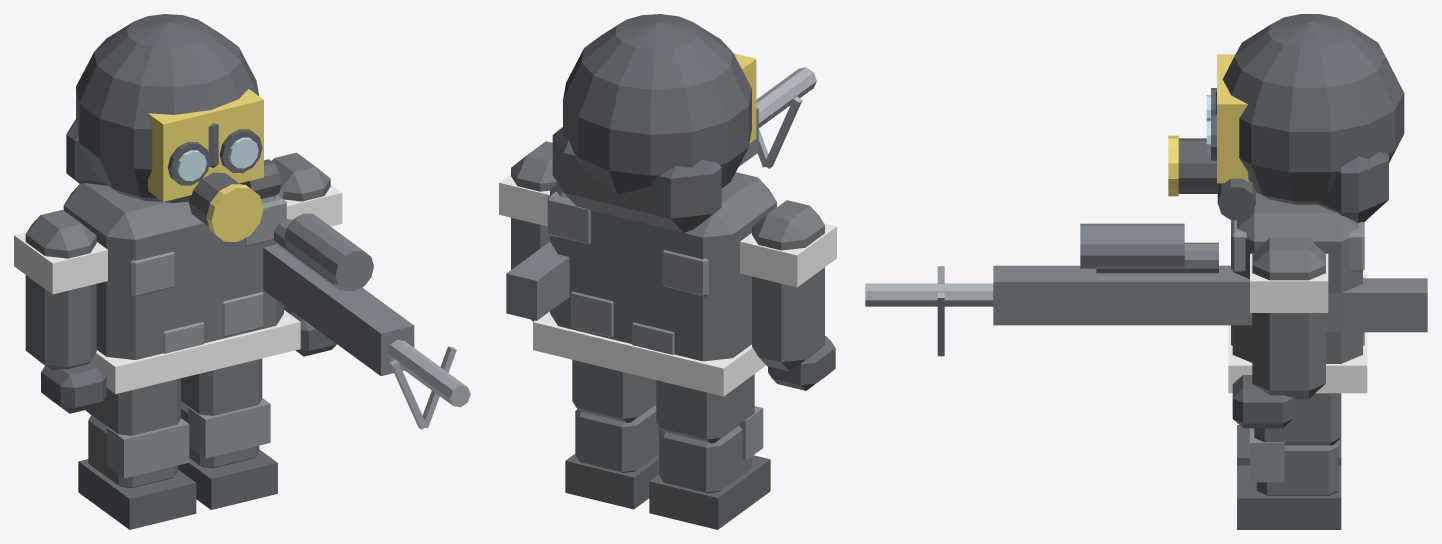
Rendered from hunter@toxico.glb.
3 views of the same model, side by side, from view 1: azimuth 30°, elevation 25°; view 2: azimuth 150°, elevation 25°; view 3: azimuth 270°, elevation 25° (orthographic). The views are drawn at different scales.
Visible parts, largest first — view 1: main, shinl, shinr, legl, legr; view 2: main, shinl, shinr, legl, legr; view 3: main, shinr, legr.
Boxes of the visible parts, left/top/right/bottom form: main: left=14, top=14, right=470, bottom=429; shinl: left=78, top=415, right=196, bottom=529; shinr: left=178, top=398, right=277, bottom=509; legl: left=85, top=378, right=180, bottom=435; legr: left=181, top=358, right=262, bottom=415; main: left=499, top=14, right=836, bottom=396; shinl: left=649, top=406, right=770, bottom=529; shinr: left=565, top=404, right=661, bottom=509; legl: left=656, top=374, right=754, bottom=443; legr: left=572, top=359, right=656, bottom=422; main: left=865, top=14, right=1427, bottom=428; shinr: left=1237, top=428, right=1341, bottom=529; legr: left=1254, top=393, right=1341, bottom=445.
Bounding box in the file's own units: 0.391 × 0.5975 × 0.6464.
